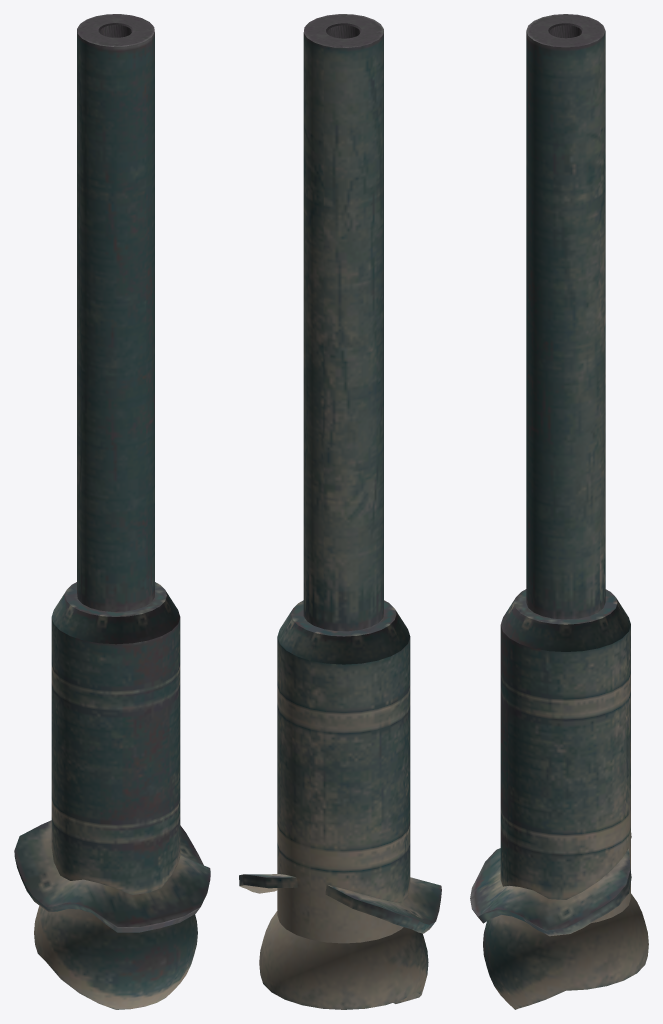
Rendered from Gun_02.glb.
The picture shows the model from 3 angles, left to right: view 1: azimuth 30°, elevation 25°; view 2: azimuth 150°, elevation 25°; view 3: azimuth 270°, elevation 25°; orthographic projection. The views are drawn at different scales.
Parts seen in each view (by area): view 1: set_0_group_0; view 2: set_0_group_0; view 3: set_0_group_0.
Boxes of the visible parts, x1,y1,x2,y2 form: set_0_group_0: (14,14,210,1009); set_0_group_0: (239,14,441,1009); set_0_group_0: (470,14,648,1009).
Size of the model in its own units: 0.4532 by 2.47 by 0.4142.
Materials: 1 (1 with a texture image).
